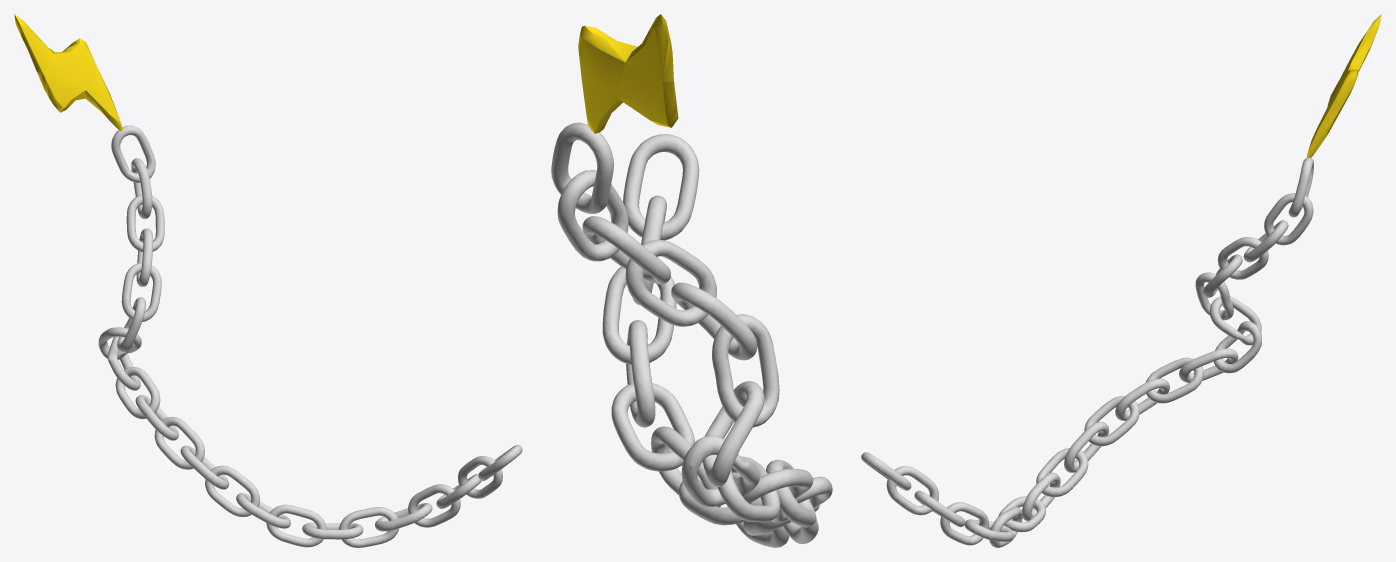
The picture shows the model from 3 angles, left to right: view 1: azimuth 30°, elevation 25°; view 2: azimuth 150°, elevation 25°; view 3: azimuth 270°, elevation 25°; orthographic projection. The views are drawn at different scales.
Parts seen in each view (by area): view 1: Elec_Back_001; view 2: Elec_Back_001; view 3: Elec_Back_001.
Boxes of the visible parts, x1,y1,x2,y2 form: Elec_Back_001: (14, 14, 522, 547); Elec_Back_001: (551, 14, 832, 547); Elec_Back_001: (861, 14, 1381, 547).
Size of the model in its own units: 96.23 by 163 by 155.
